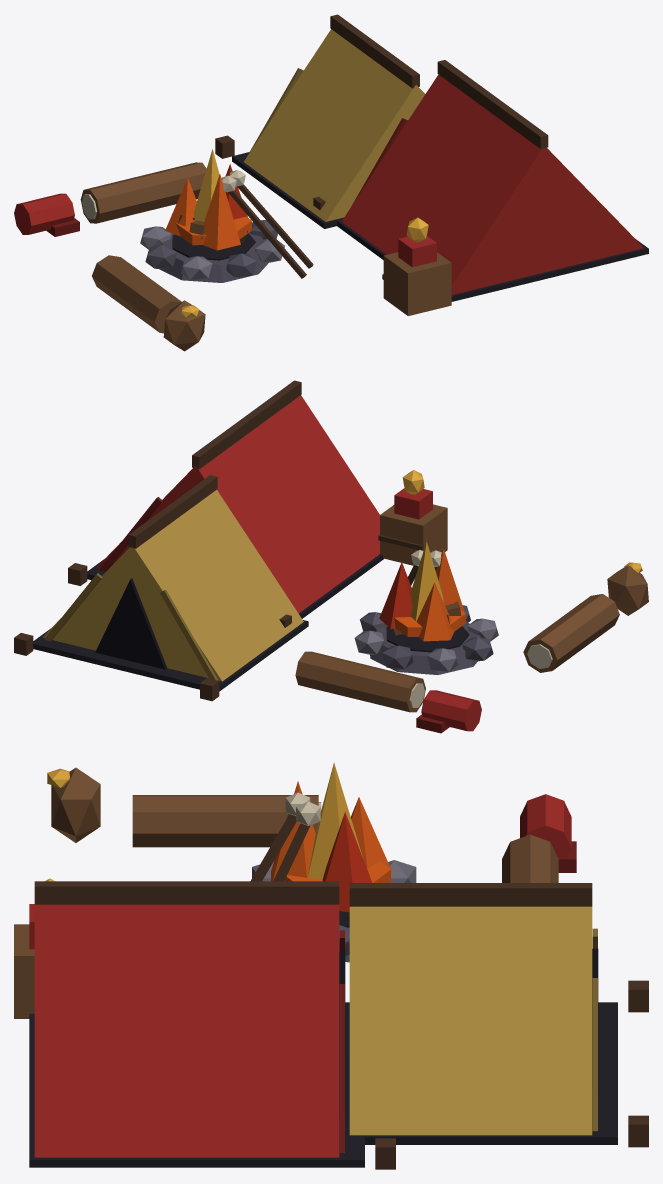
Rendered from Decor_Volcano_Campsite.fbx.
The picture shows the model from 3 angles, top to bottom: view 1: azimuth 30°, elevation 25°; view 2: azimuth 150°, elevation 25°; view 3: azimuth 270°, elevation 25°; orthographic projection. The views are drawn at different scales.
Visible parts, largest first — view 1: Campsite_Body; view 2: Campsite_Body; view 3: Campsite_Body.
Boxes of the visible parts, bbox=[...] form: Campsite_Body: bbox=[14, 14, 648, 351]; Campsite_Body: bbox=[14, 380, 648, 733]; Campsite_Body: bbox=[14, 762, 648, 1169].
Size of the model in its own units: 15.05 by 4.29 by 11.8.
